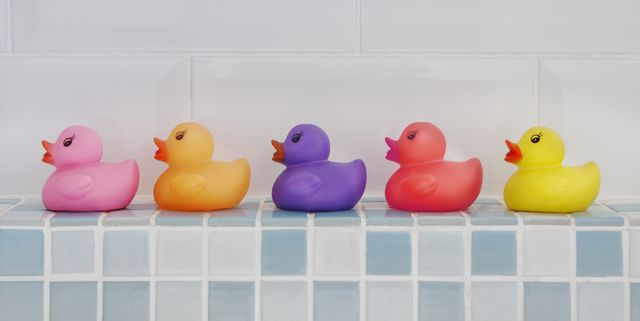Duck: (381, 117, 485, 217), (149, 118, 253, 217), (37, 121, 141, 219), (268, 116, 369, 213), (502, 121, 603, 217)
